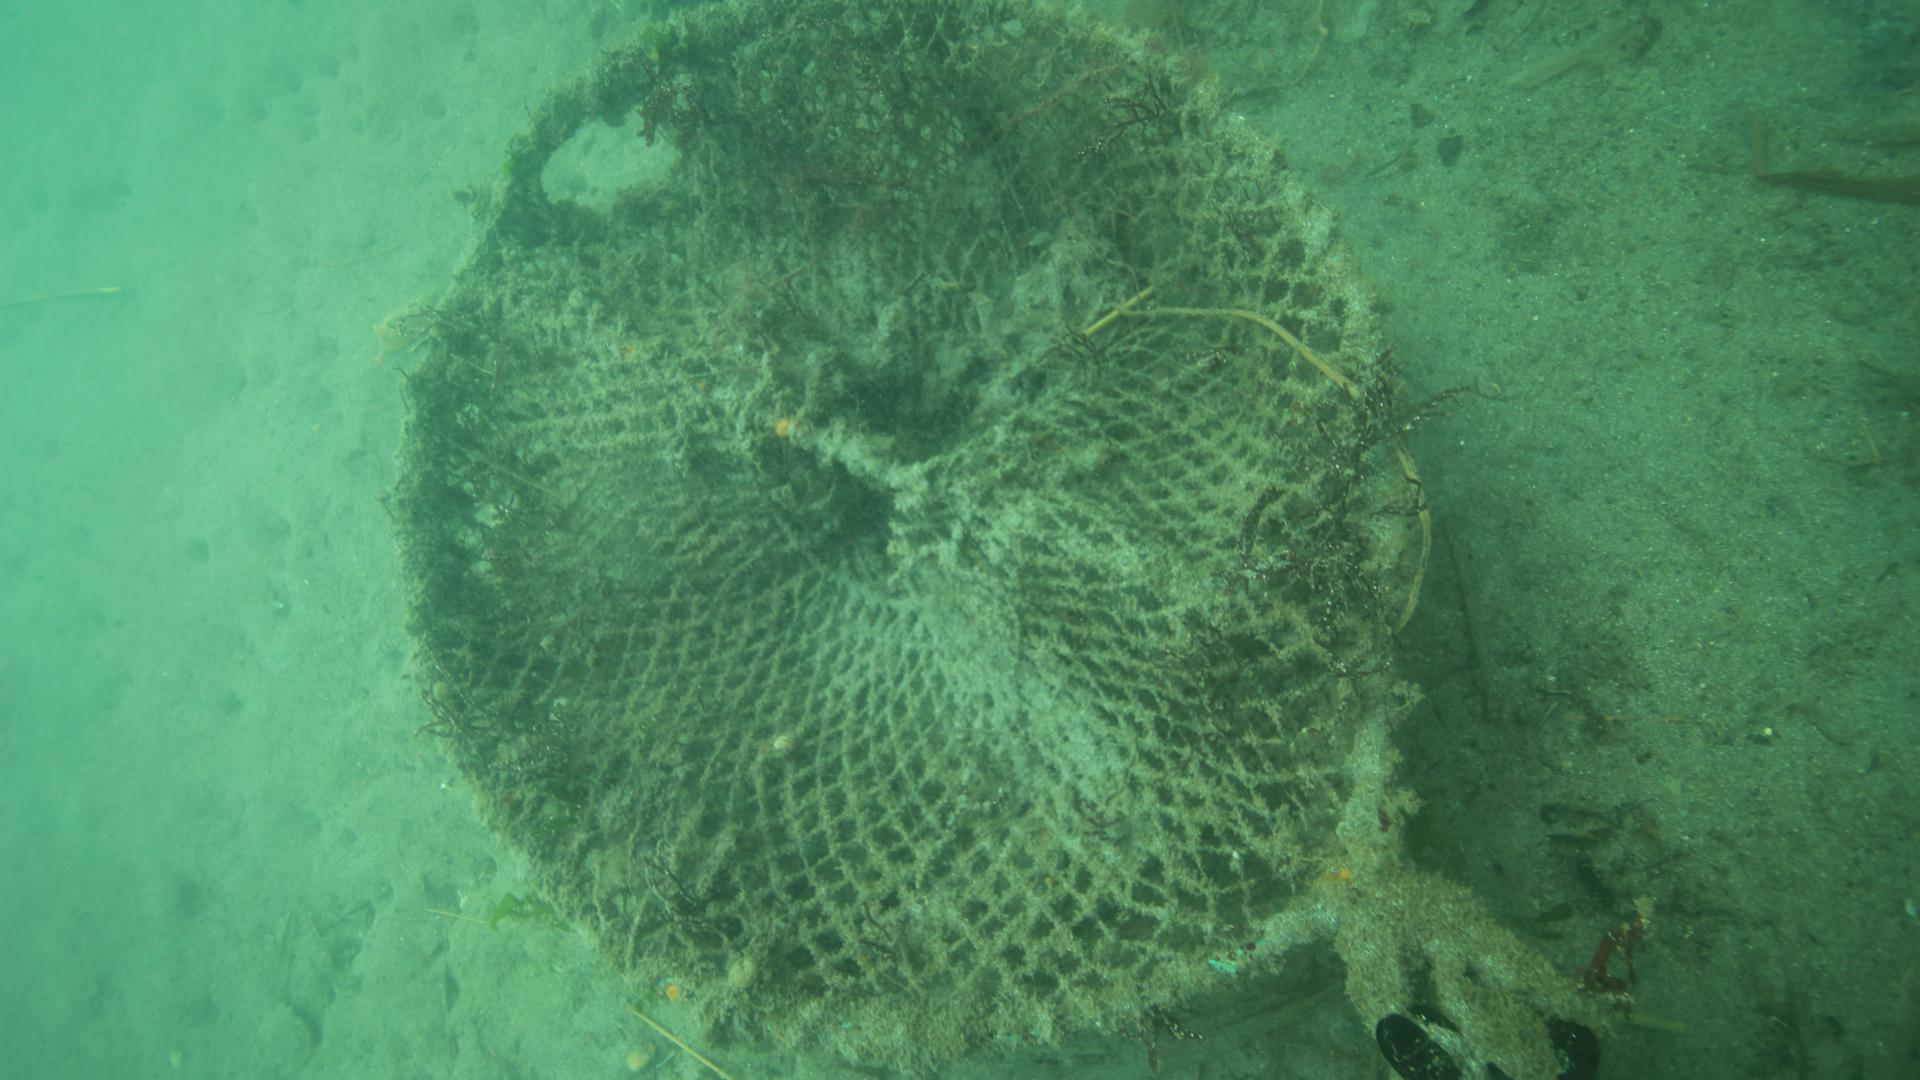circular fish trap: (392, 3, 1394, 1069)
